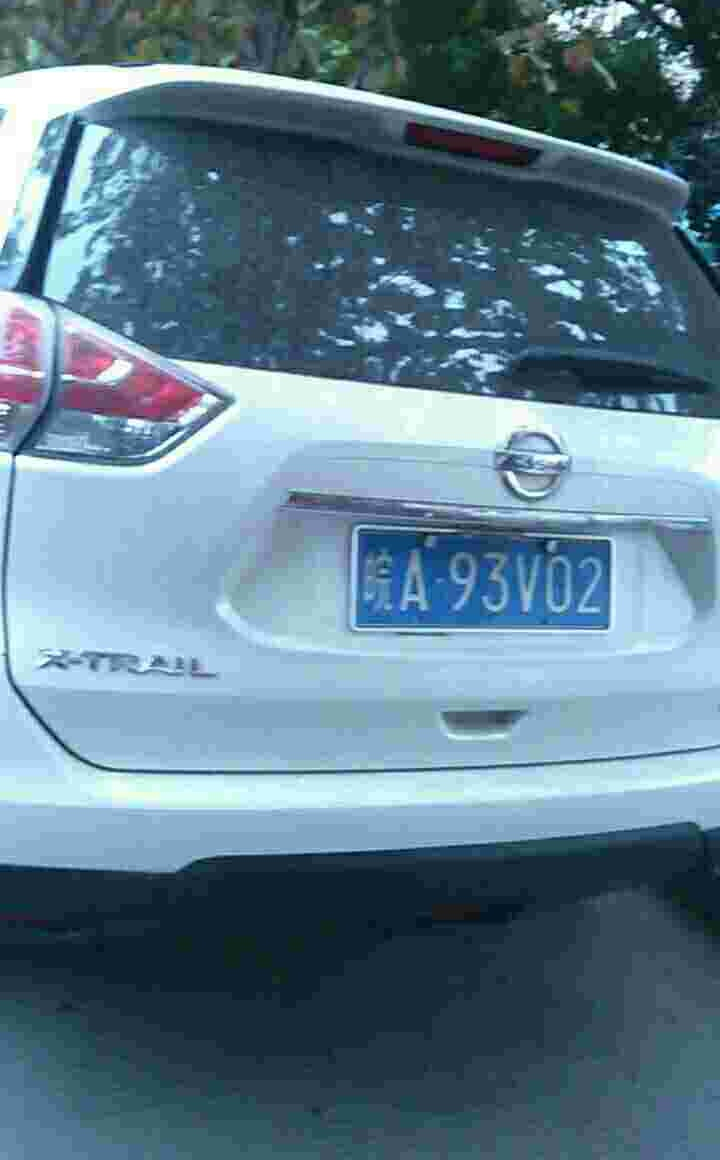license_plate: (349, 528, 616, 634)
